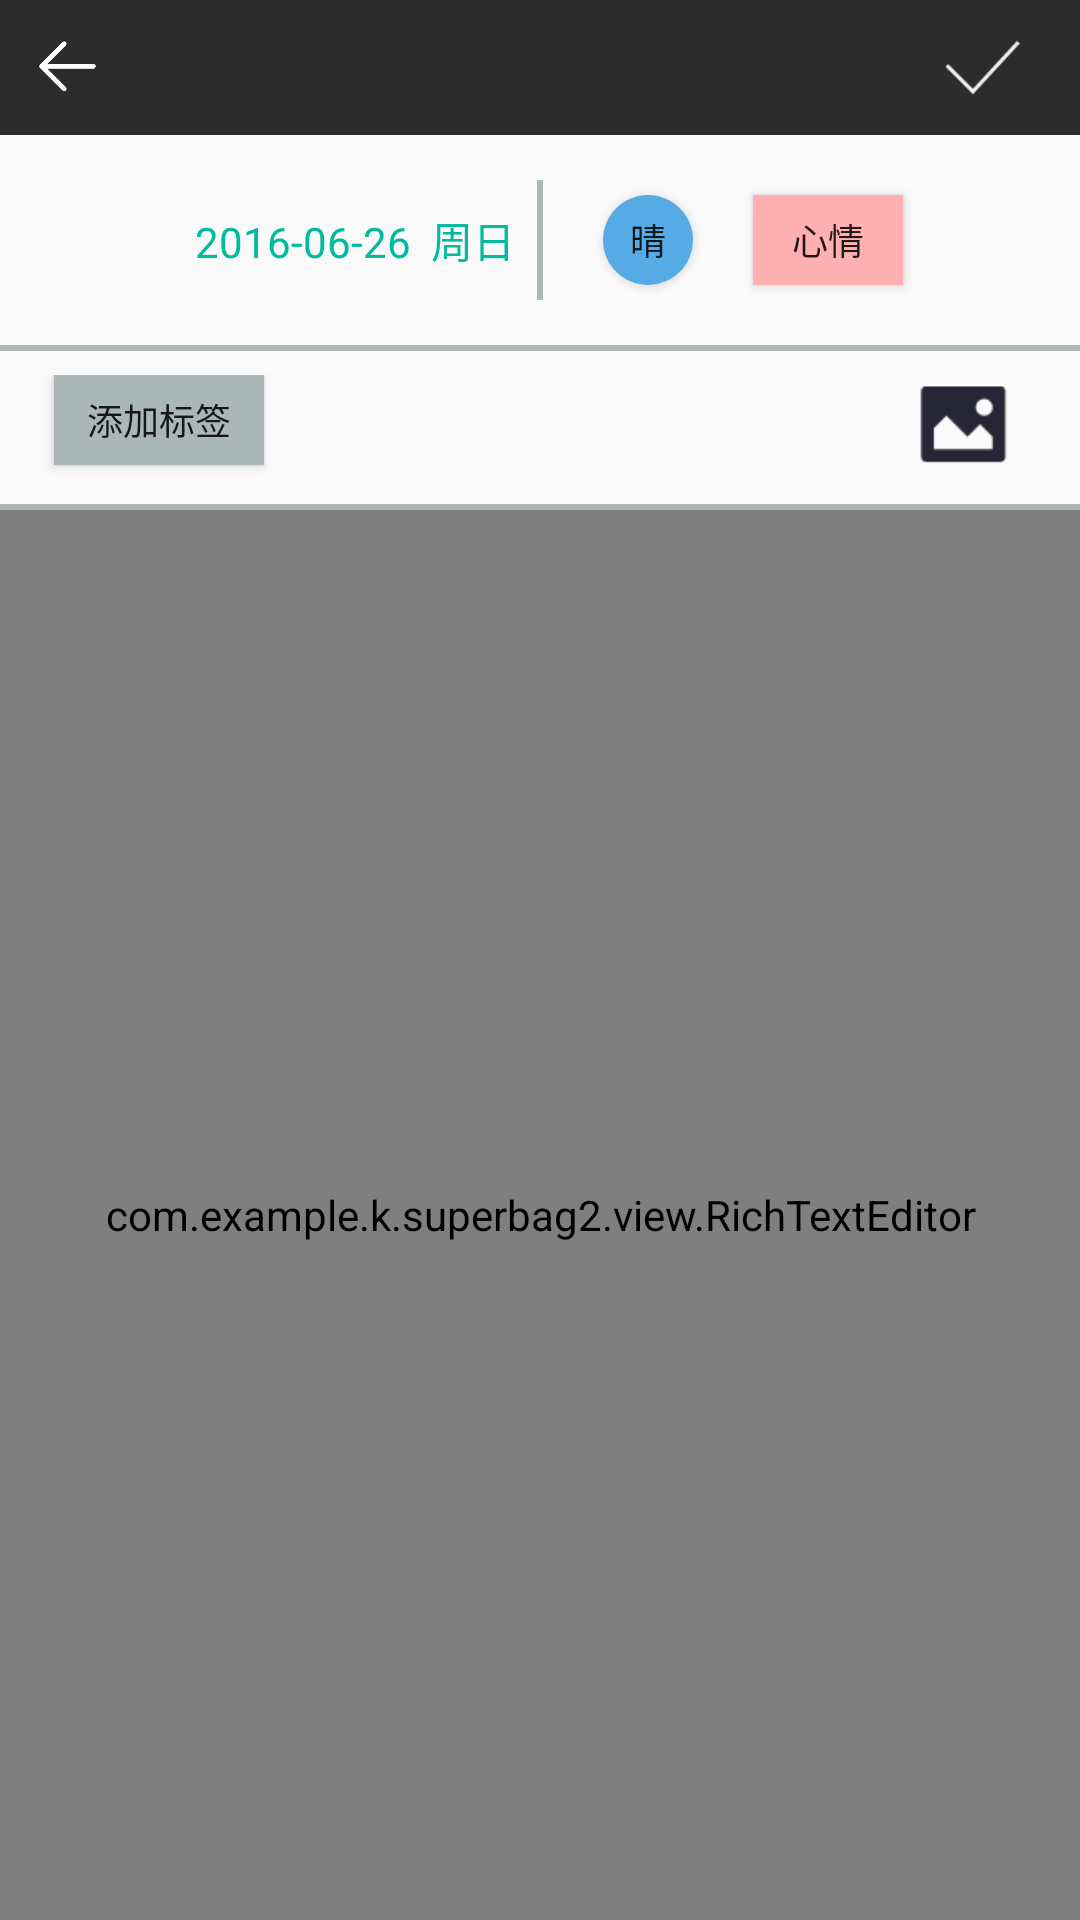

Named icons in this screenshot (1080 x 1920) and their bounding boxes, (x1, y1, x2, y2):
back: (39, 41, 96, 91)
save: (945, 41, 1020, 95)
